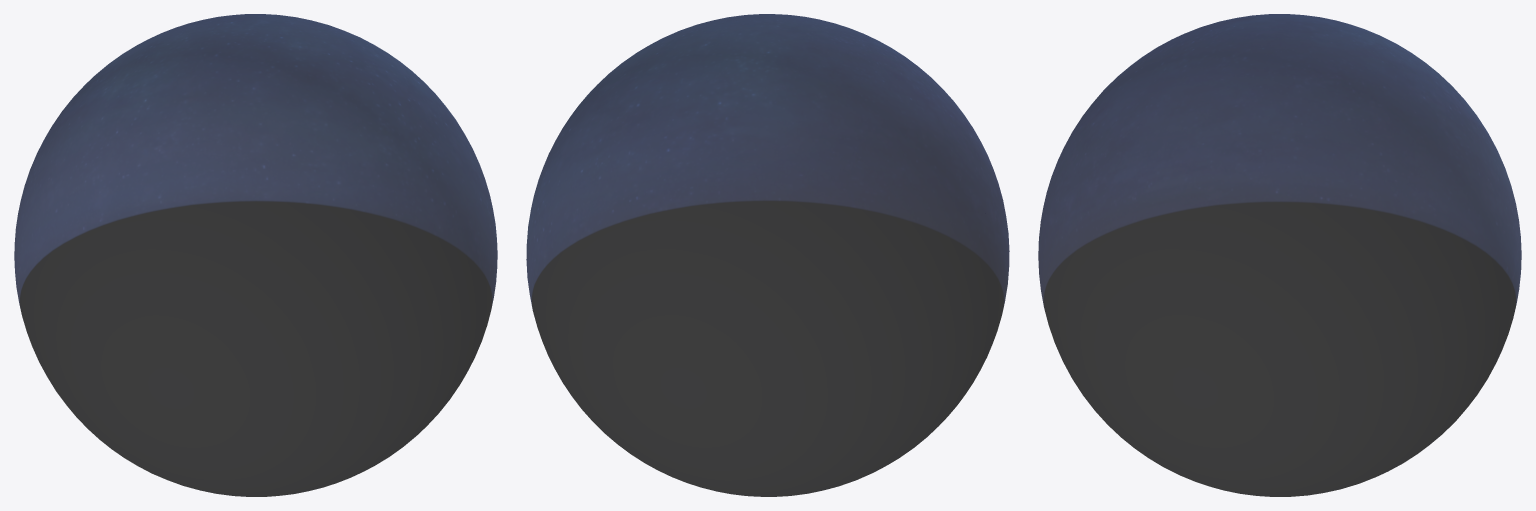
The model's file is dome_withoutblack_2026-10-26.glb.
3 views of the same model, side by side, from view 1: azimuth 30°, elevation 25°; view 2: azimuth 150°, elevation 25°; view 3: azimuth 270°, elevation 25° (orthographic).
Parts seen in each view (by area): view 1: sphere; view 2: sphere; view 3: sphere.
Boxes of the visible parts, x1=… form: sphere: x1=14, y1=14, x2=497, y2=496; sphere: x1=526, y1=14, x2=1009, y2=496; sphere: x1=1038, y1=14, x2=1521, y2=496.
Bounding box in the file's own units: 331 × 331 × 332.
Materials: 1 (1 with a texture image).
